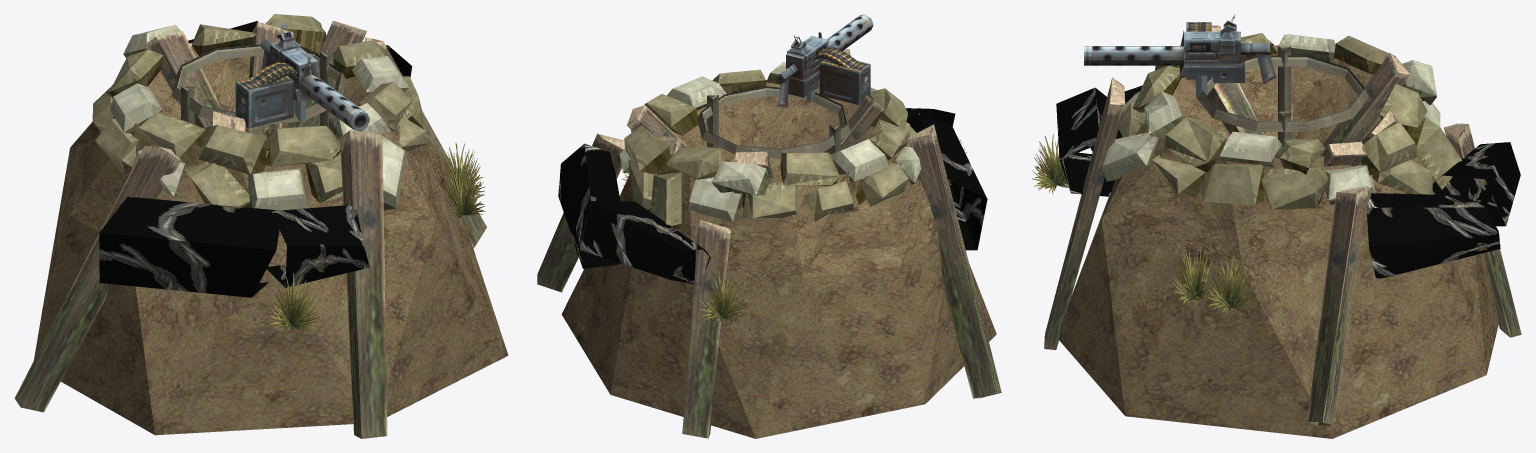
File: C1SMMGN_H.obj
3 renders of one model, left to right at view 1: azimuth 30°, elevation 25°; view 2: azimuth 150°, elevation 25°; view 3: azimuth 270°, elevation 25°, orthographic. The views are drawn at different scales.
Visible parts, largest first — view 1: Node 0, Node 6, Node 7; view 2: Node 0, Node 6, Node 7; view 3: Node 0, Node 6.
Boxes of the visible parts, x1=… form: Node 0: x1=14, y1=14, x2=508, y2=438; Node 6: x1=235, y1=21, x2=369, y2=131; Node 7: x1=251, y1=62, x2=296, y2=85; Node 0: x1=537, y1=49, x2=1001, y2=438; Node 6: x1=776, y1=14, x2=873, y2=107; Node 7: x1=816, y1=47, x2=856, y2=67; Node 0: x1=1032, y1=25, x2=1521, y2=438; Node 6: x1=1084, y1=14, x2=1276, y2=84.
Bounding box in the file's own units: 6.83 × 4.54 × 6.05.
10 materials, 10 textured.
